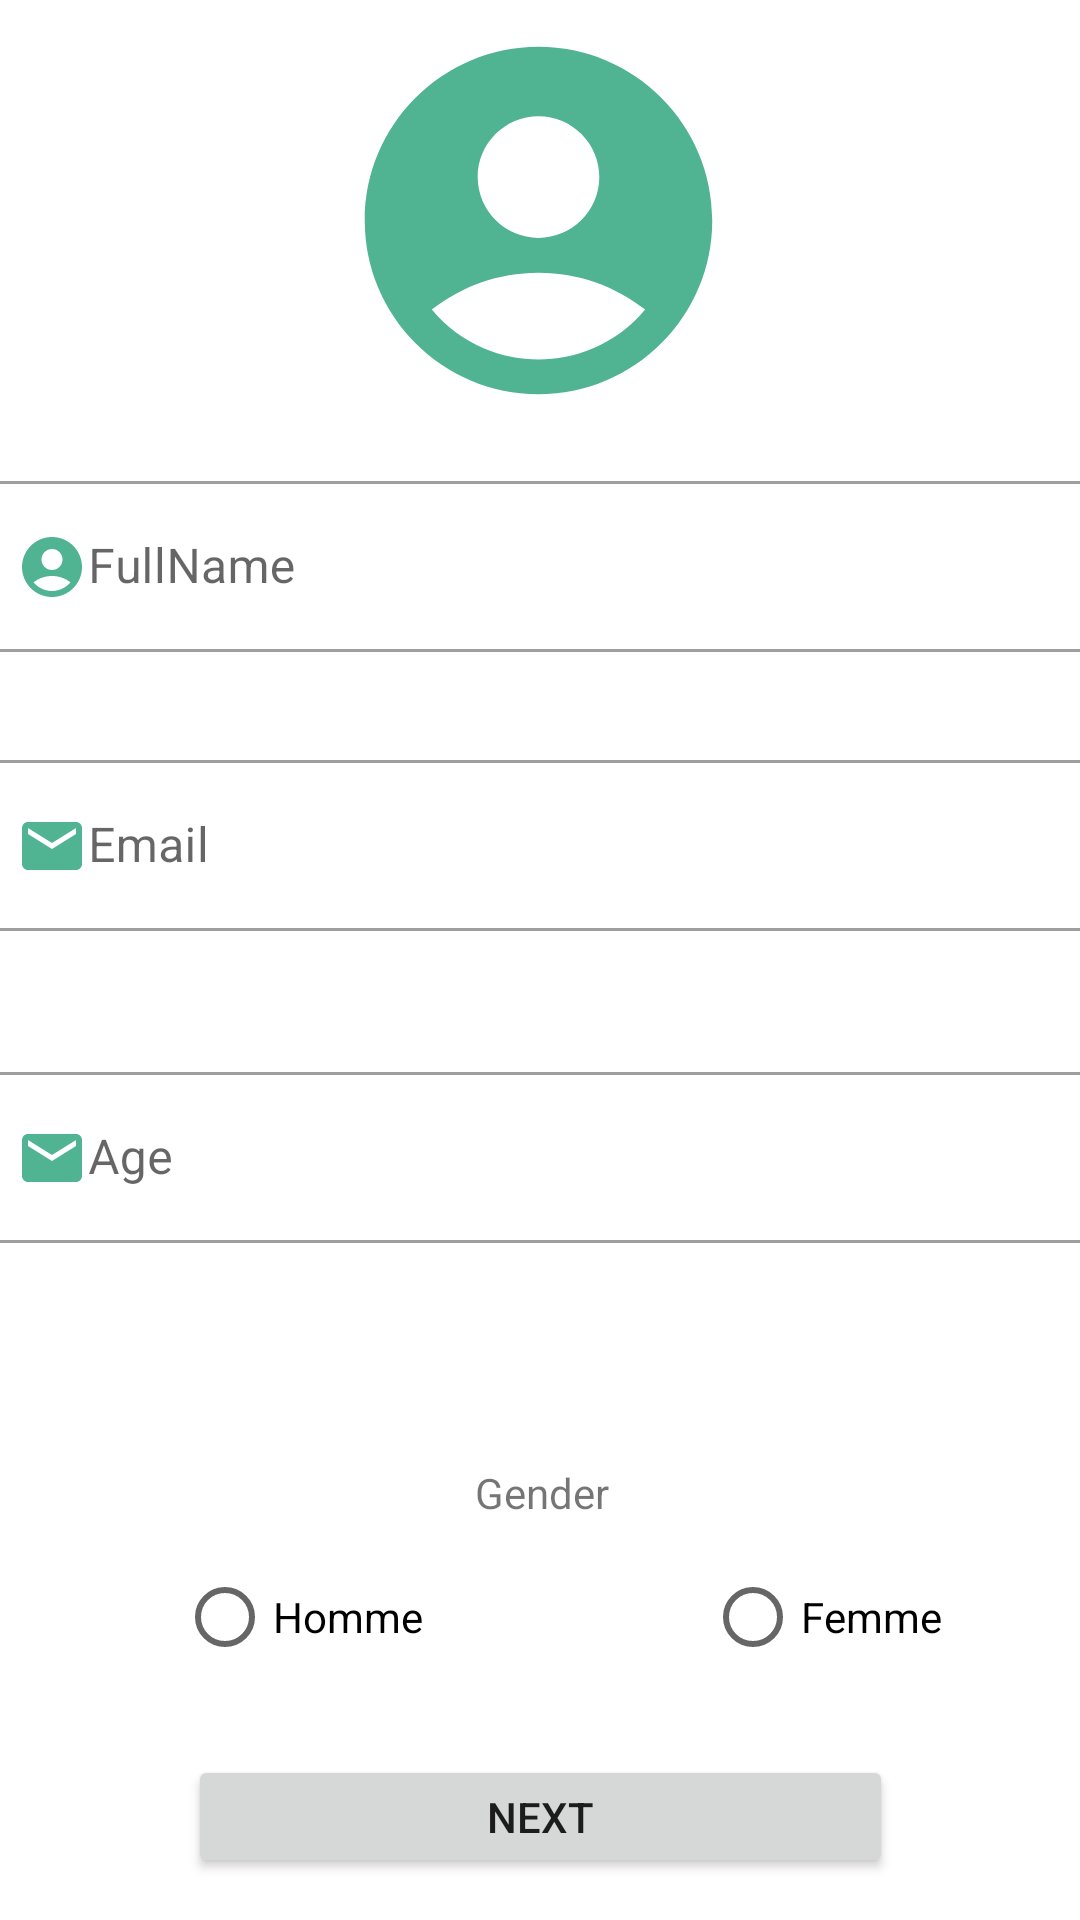

Where icons sit on this 1080*1920 app screen, as (x1, y1, x2, y2):
account circle: (364, 46, 713, 395)
